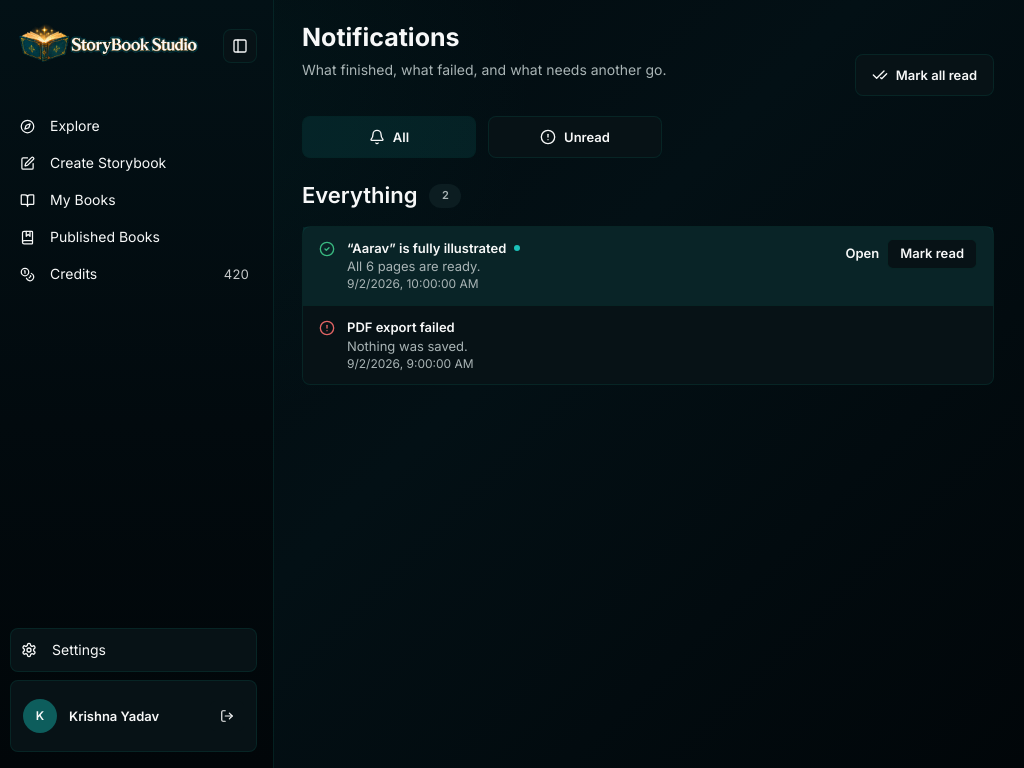
it: notifications › filters to unread
Expected: the text "“Aarav” is fully illustrated" is shown, [347,238,506,257]
Click the tab "Unread" at (575, 137), box [488,116,662,158]
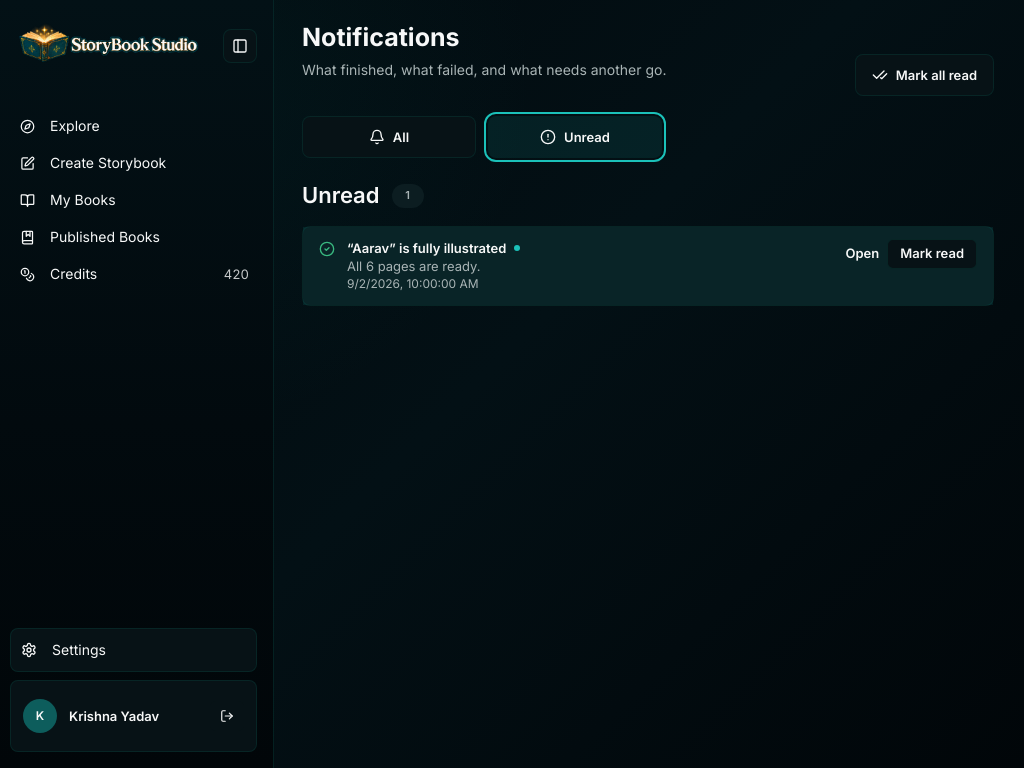
Expected: the text "PDF export failed" is gone
